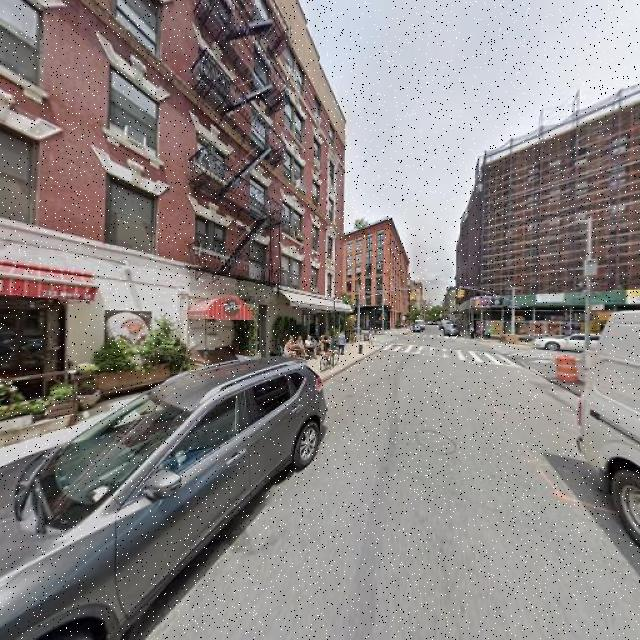Building: (1, 1, 344, 404), (483, 100, 640, 342), (350, 220, 390, 330)
